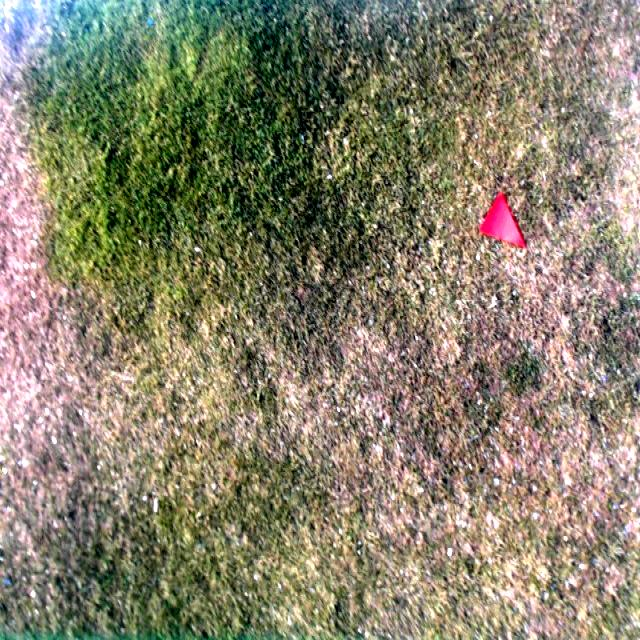red_triangle: (478, 191, 530, 251)
